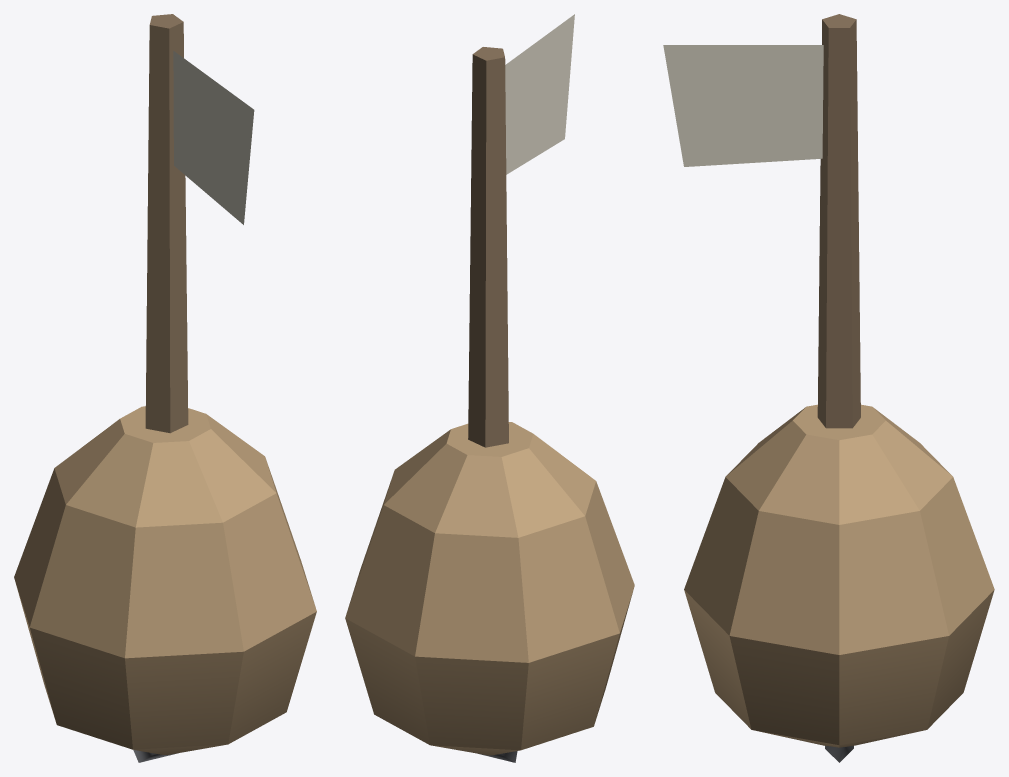
File: buoy.glb
The picture shows the model from 3 angles, left to right: view 1: azimuth 30°, elevation 25°; view 2: azimuth 150°, elevation 25°; view 3: azimuth 270°, elevation 25°; orthographic projection. The views are drawn at different scales.
Visible parts, largest first — view 1: buoy; view 2: buoy; view 3: buoy.
Part boxes in pixels (bbox=[...]): buoy: bbox=[14, 14, 316, 762]; buoy: bbox=[345, 14, 634, 762]; buoy: bbox=[663, 14, 994, 762].
Size of the model in its own units: 0.6 by 1.55 by 0.64.
